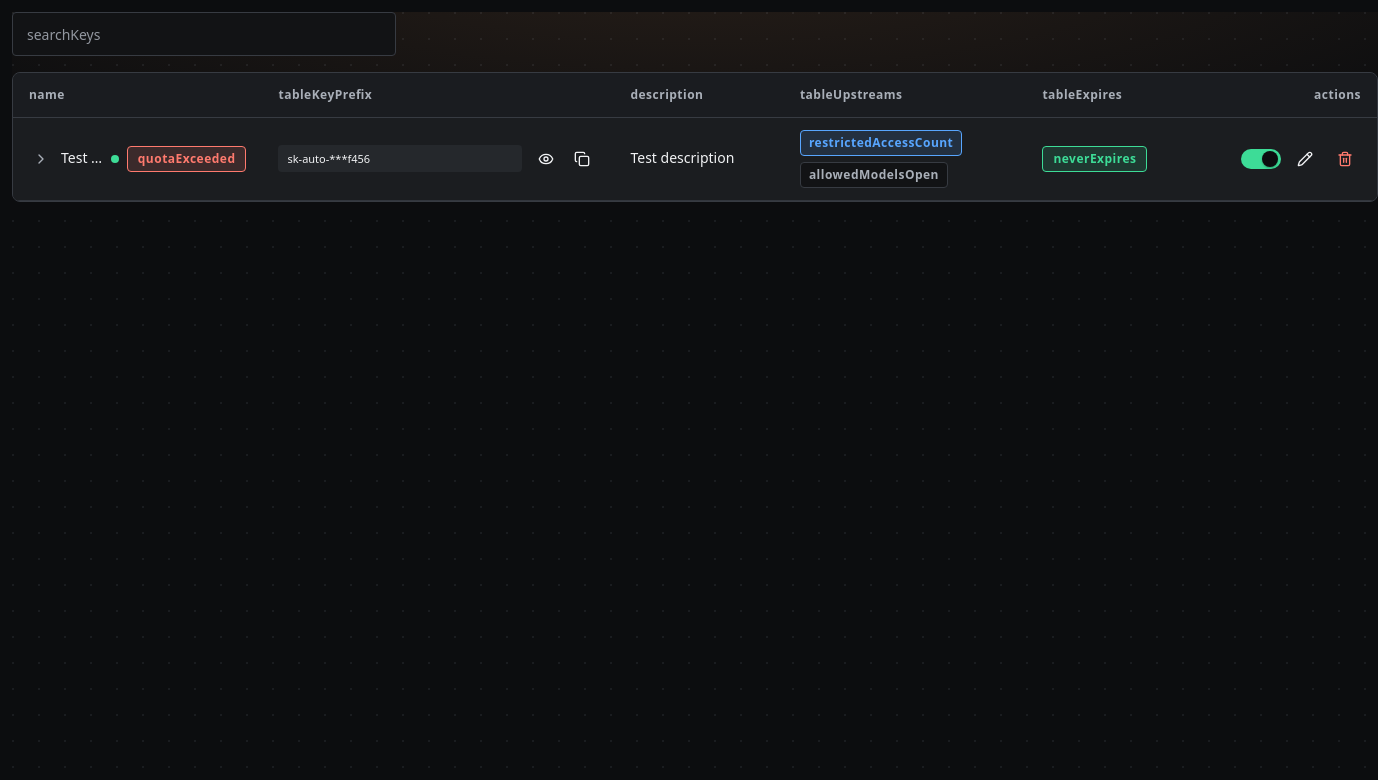
Scenario: KeysTable › Table Rendering › renders rule-level quota status when spending data is present
The image size is (1378, 780).
Expected: the text "quotaExceeded" is shown, [127,146,246,172]
Note: Click to expand the quota details
Click the text "Test API Key": x=138, y=159 [13,117,262,200]
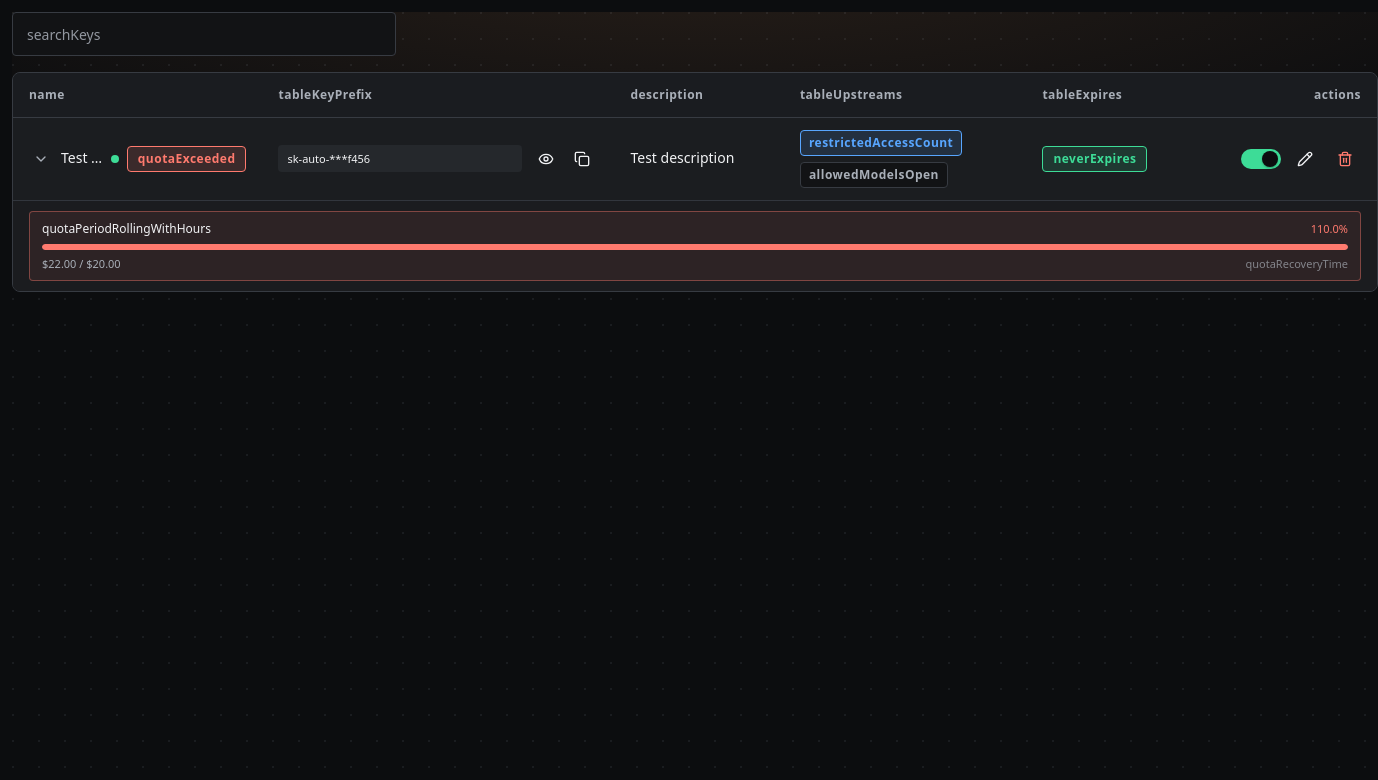
Expected: the text "110.0%" is shown, [1311,221,1348,237]
Expected: the text "quotaRecoveryTime" is shown, [1246,256,1348,272]
